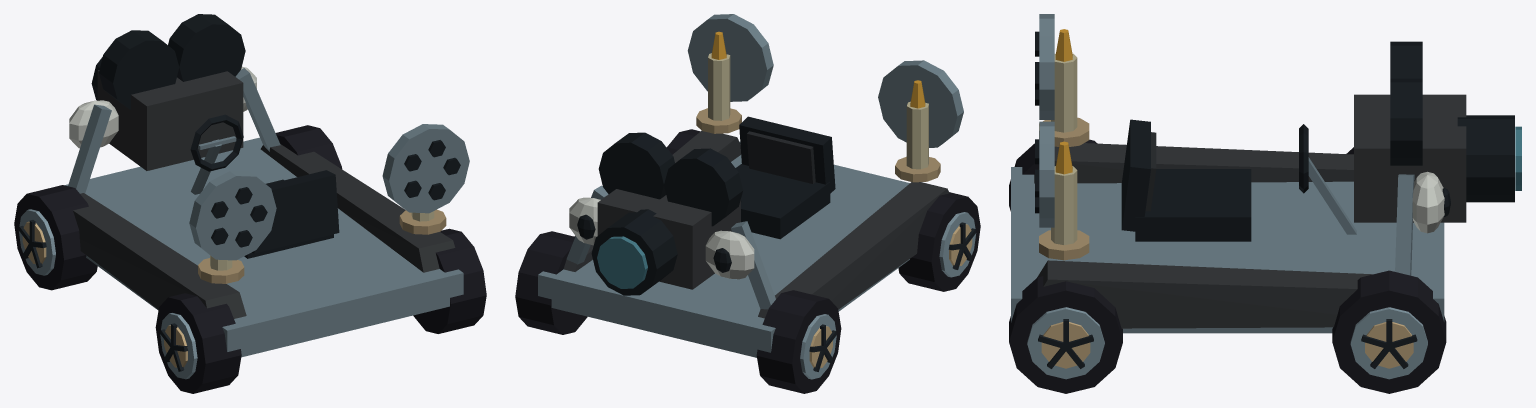
Rendered from kart.glb.
3 views of the same model, side by side, from view 1: azimuth 30°, elevation 25°; view 2: azimuth 150°, elevation 25°; view 3: azimuth 270°, elevation 25° (orthographic). The views are drawn at different scales.
Visible parts, largest first — view 1: identity-camera-rig-camera-dolly-and-lens, identity-camera-rig-motif-film, identity-camera-rig-driver-cockpit, wheel-rear-left, wheel-front-left, wheel-rear-right, identity-camera-rig-motif-candles, wheel-front-right, identity-camera-rig-motif-eyes; view 2: identity-camera-rig-camera-dolly-and-lens, identity-camera-rig-driver-cockpit, identity-camera-rig-motif-film, wheel-front-left, wheel-rear-left, identity-camera-rig-motif-candles, wheel-front-right, identity-camera-rig-motif-eyes; view 3: identity-camera-rig-camera-dolly-and-lens, identity-camera-rig-driver-cockpit, wheel-front-right, wheel-rear-right, identity-camera-rig-motif-candles, identity-camera-rig-motif-film, identity-camera-rig-motif-eyes, wheel-rear-left.
Part boxes in pixels (x1=…): identity-camera-rig-camera-dolly-and-lens: x1=65, y1=14, x2=463, y2=357; identity-camera-rig-motif-film: x1=189, y1=124, x2=469, y2=260; identity-camera-rig-driver-cockpit: x1=190, y1=114, x2=339, y2=258; wheel-rear-left: x1=155, y1=293, x2=241, y2=393; wheel-front-left: x1=14, y1=185, x2=97, y2=290; wheel-rear-right: x1=413, y1=228, x2=486, y2=333; identity-camera-rig-motif-candles: x1=198, y1=209, x2=446, y2=283; wheel-front-right: x1=275, y1=125, x2=342, y2=168; identity-camera-rig-motif-eyes: x1=69, y1=66, x2=256, y2=148; identity-camera-rig-camera-dolly-and-lens: x1=538, y1=130, x2=949, y2=357; identity-camera-rig-driver-cockpit: x1=735, y1=116, x2=835, y2=239; identity-camera-rig-motif-film: x1=687, y1=14, x2=963, y2=147; wheel-front-left: x1=756, y1=290, x2=841, y2=393; wheel-rear-left: x1=898, y1=192, x2=980, y2=291; identity-camera-rig-motif-candles: x1=696, y1=31, x2=940, y2=182; wheel-front-right: x1=515, y1=231, x2=587, y2=334; identity-camera-rig-motif-eyes: x1=569, y1=197, x2=754, y2=279; identity-camera-rig-camera-dolly-and-lens: x1=1011, y1=41, x2=1521, y2=333; identity-camera-rig-driver-cockpit: x1=1121, y1=119, x2=1356, y2=241; wheel-front-right: x1=1332, y1=270, x2=1446, y2=393; wheel-rear-right: x1=1009, y1=276, x2=1122, y2=393; identity-camera-rig-motif-candles: x1=1039, y1=29, x2=1089, y2=260; identity-camera-rig-motif-film: x1=1035, y1=14, x2=1054, y2=227; identity-camera-rig-motif-eyes: x1=1412, y1=171, x2=1450, y2=233; wheel-rear-left: x1=1009, y1=139, x2=1097, y2=211.
Size of the model in its own units: 2.07 by 1.46 by 2.7.
